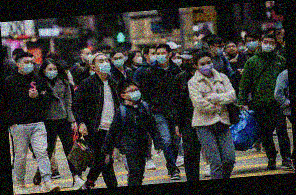with_mask: (97, 57, 112, 75), (198, 60, 214, 75), (127, 87, 142, 102), (21, 59, 34, 75), (261, 39, 275, 53), (44, 67, 59, 80), (155, 50, 168, 65), (113, 54, 125, 69), (182, 58, 194, 72), (171, 55, 183, 68), (246, 38, 258, 50), (215, 43, 226, 56), (148, 51, 157, 64), (104, 49, 113, 61), (134, 53, 143, 65), (84, 51, 93, 62), (203, 39, 210, 49), (123, 51, 129, 62), (237, 43, 244, 51)
without_mask: (226, 43, 237, 55)
